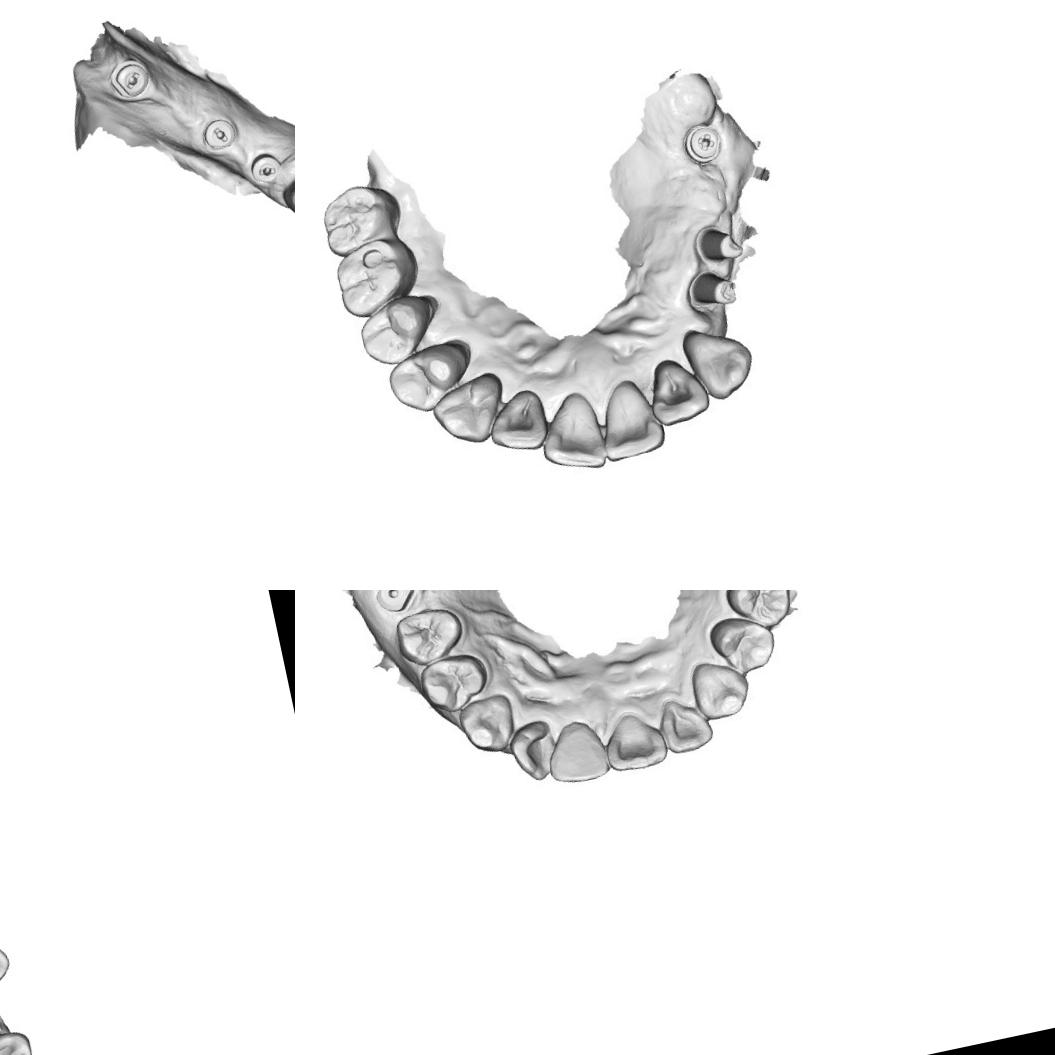abutment: (681, 264, 740, 316), (690, 215, 748, 267)
canine: (424, 368, 514, 454), (681, 318, 760, 406), (454, 688, 520, 760), (686, 654, 753, 724), (277, 155, 295, 232), (0, 1026, 39, 1055)
implant: (370, 590, 417, 616)
implant_minus: (106, 54, 155, 106), (198, 112, 244, 156), (245, 148, 288, 192)
implant_plus: (681, 118, 726, 169)
incisor: (588, 370, 671, 465), (530, 386, 609, 481), (640, 351, 714, 431), (596, 711, 674, 780), (541, 724, 614, 792), (484, 390, 550, 458), (652, 693, 718, 758), (505, 718, 557, 788)
molar: (327, 233, 424, 322), (312, 176, 407, 260)
premolar: (382, 336, 472, 418), (353, 290, 441, 370), (706, 607, 784, 682), (414, 648, 494, 718), (390, 602, 470, 670), (720, 590, 798, 636)
